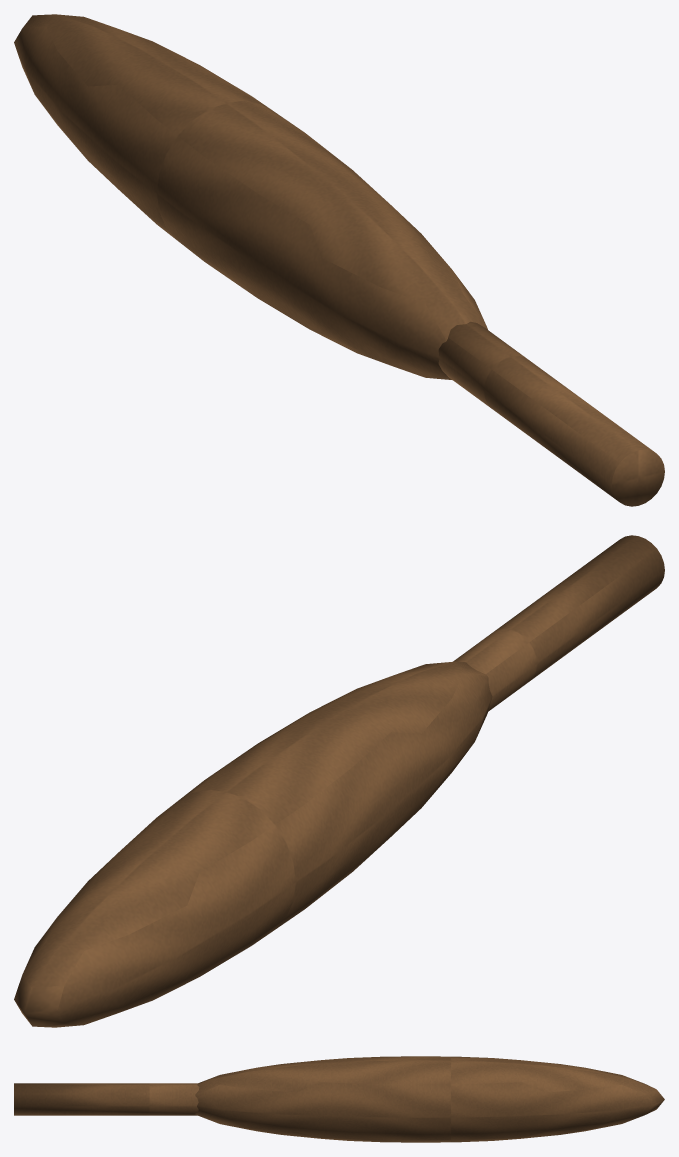
The model's file is mc_bat.glb.
3 renders of one model, top to bottom at view 1: azimuth 30°, elevation 25°; view 2: azimuth 150°, elevation 25°; view 3: azimuth 270°, elevation 25°, orthographic. The views are drawn at different scales.
Visible parts, largest first — view 1: mc_bat__Geometry; view 2: mc_bat__Geometry; view 3: mc_bat__Geometry.
Boxes of the visible parts, box(x1,y1,x2,y2) form: mc_bat__Geometry: box(14, 14, 664, 506); mc_bat__Geometry: box(14, 535, 664, 1027); mc_bat__Geometry: box(14, 1056, 664, 1142).
Bounding box in the file's own units: 0.096 × 0.096 × 0.72.
1 material, 1 textured.
